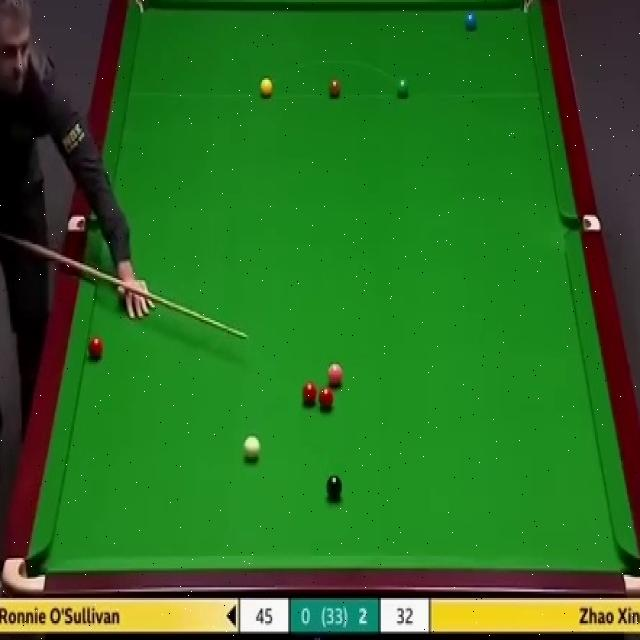black-ball: (326, 475, 342, 496)
blue-ball: (463, 11, 479, 32)
brown-ball: (328, 80, 342, 97)
green-ball: (396, 76, 410, 101)
pink-ball: (326, 363, 344, 387)
red-ball: (319, 386, 334, 415), (302, 381, 317, 405), (87, 337, 104, 358)
white-ball: (242, 434, 262, 461)
yellow-ball: (258, 77, 274, 99)
